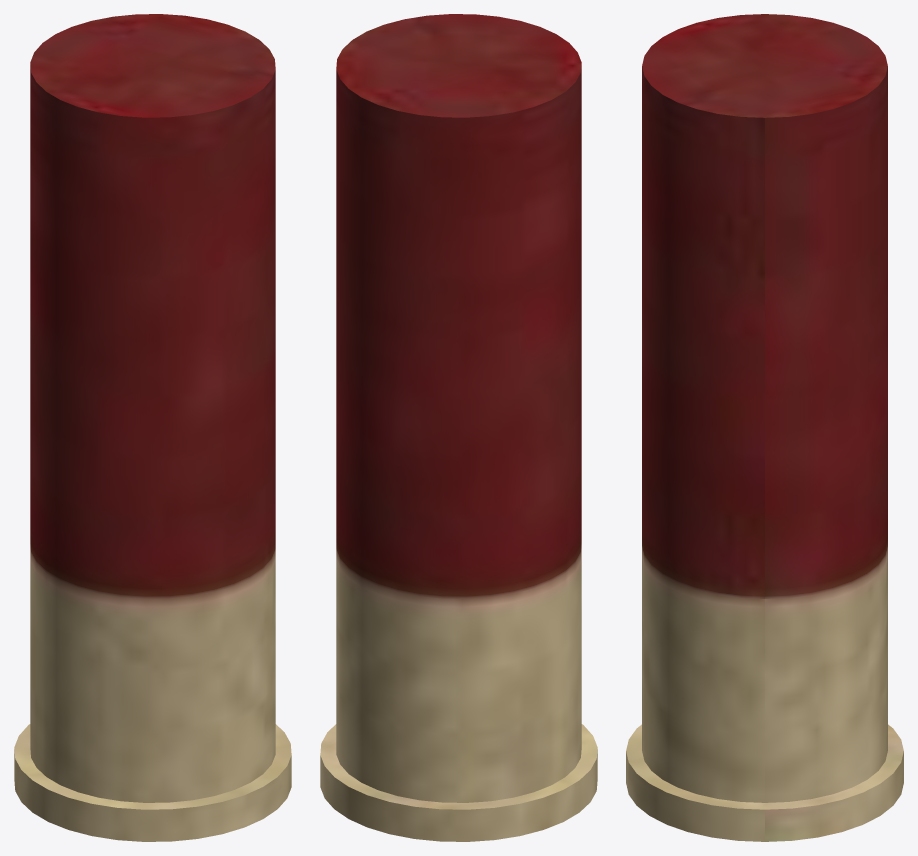
Rendered from shell-shotgun.glb.
3 renders of one model, left to right at view 1: azimuth 30°, elevation 25°; view 2: azimuth 150°, elevation 25°; view 3: azimuth 270°, elevation 25°, orthographic.
Visible parts, largest first — view 1: shell_shotgun; view 2: shell_shotgun; view 3: shell_shotgun.
Boxes of the visible parts, x1,y1,x2,y2 form: shell_shotgun: (14,14,291,841); shell_shotgun: (320,14,597,841); shell_shotgun: (626,14,903,841).
Size of the model in its own units: 0.0246 by 0.07 by 0.0246.
Materials: 1 (1 with a texture image).
